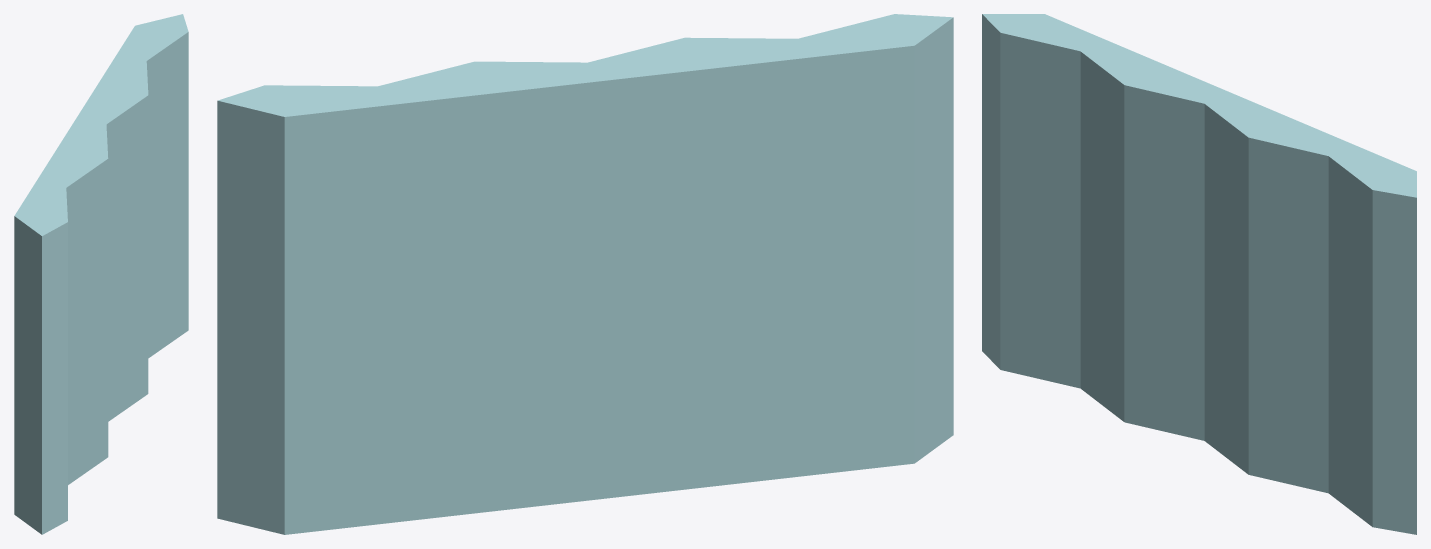
File: cliff_diagonal_stone.dae
The picture shows the model from 3 angles, left to right: view 1: azimuth 30°, elevation 25°; view 2: azimuth 150°, elevation 25°; view 3: azimuth 270°, elevation 25°; orthographic projection. The views are drawn at different scales.
Visible parts, largest first — view 1: cliff_diagonal_stone; view 2: cliff_diagonal_stone; view 3: cliff_diagonal_stone.
Boxes of the visible parts, left/top/right/bottom form: cliff_diagonal_stone: left=14, top=14, right=188, bottom=534; cliff_diagonal_stone: left=217, top=14, right=953, bottom=534; cliff_diagonal_stone: left=982, top=14, right=1416, bottom=534.
Size of the model in its own units: 1.17 by 1 by 1.17.
